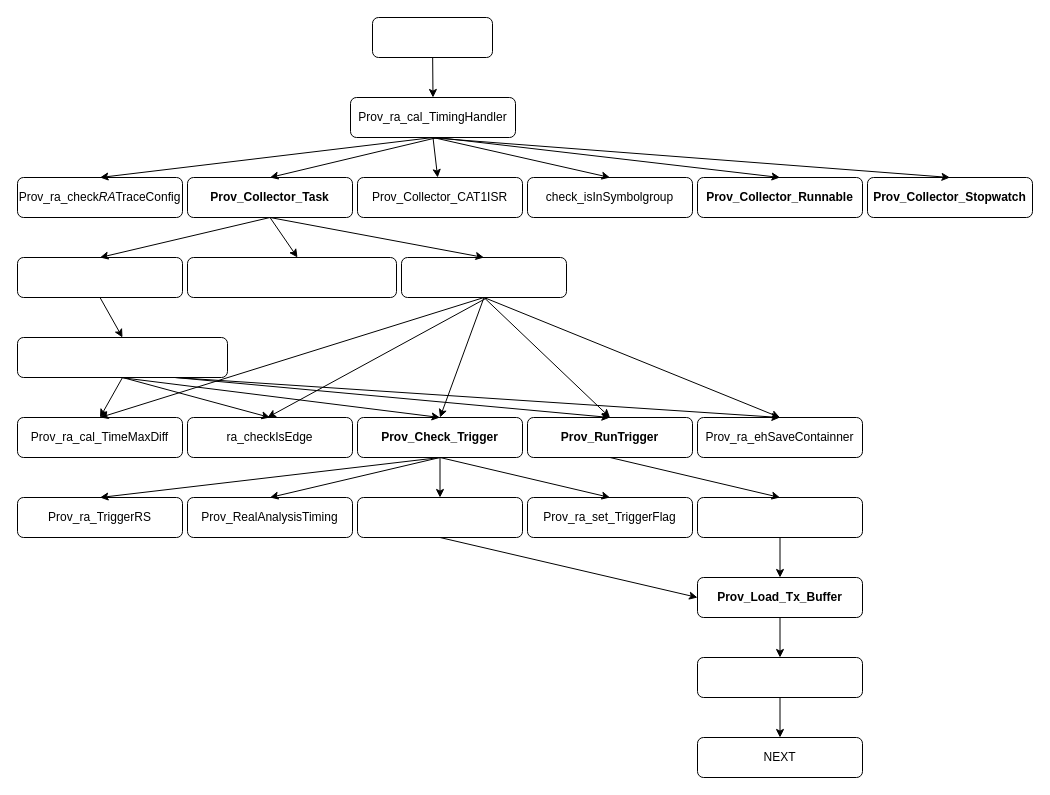
Image size: 1050x795. Some labels were removed from this diagram. Each missing label, with the box of its shape:
Prov_Collector_EventChain: (16, 256, 182, 298)
Prov_ra_cal_RecursiveTimeMaxDiff: (186, 256, 396, 298)
Prov_Send_Pre_RA_Data: (356, 496, 522, 538)
Prov_SetMessage: (696, 656, 862, 698)
Prov_SetSnapTrigger: (696, 496, 862, 538)
Prov_TimingProcessor_EventChain: (16, 336, 228, 378)
Prov_TimingProcessor_Task: (400, 256, 566, 298)
Prov_TraceTimePC: (372, 16, 492, 58)
